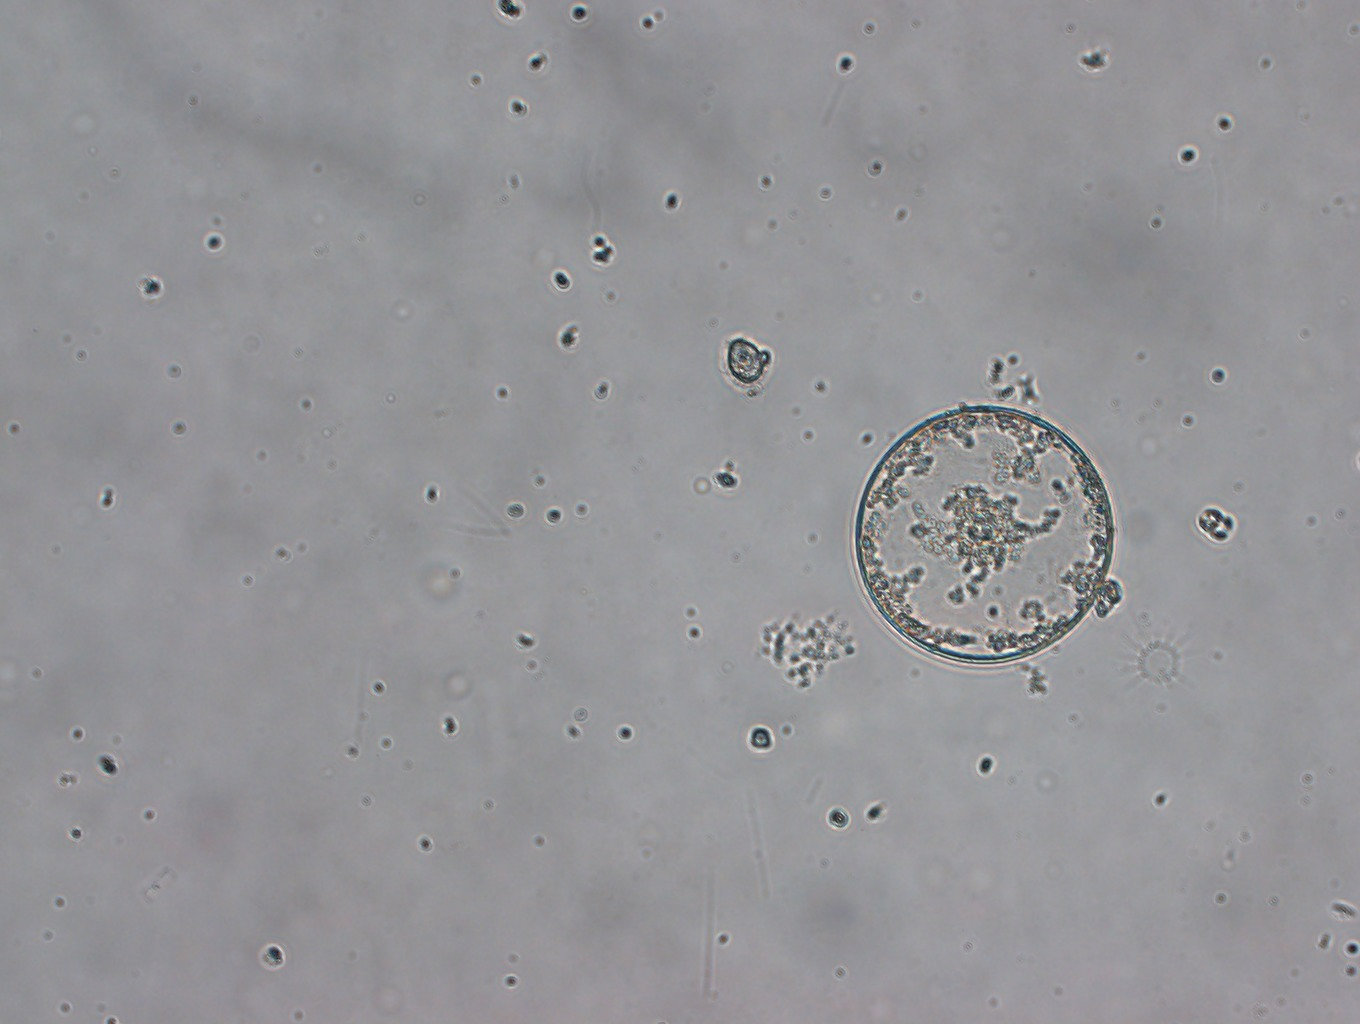coscinodiscus: (854, 395, 1125, 673)
